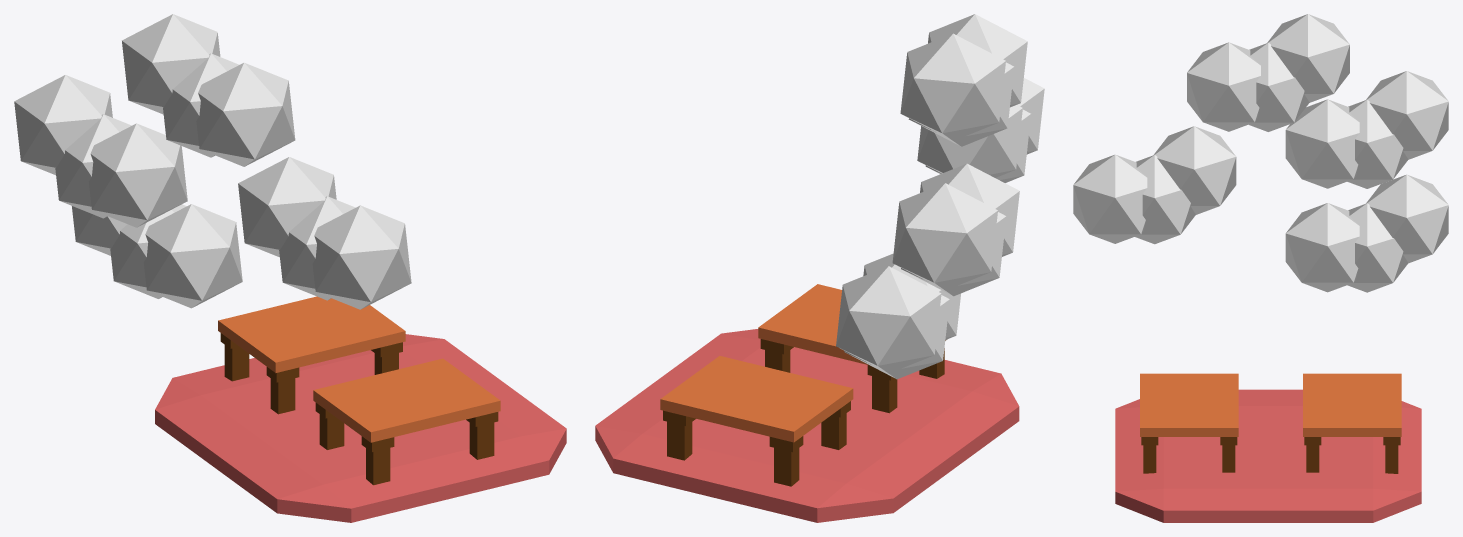
The model's file is stage.glb.
3 renders of one model, left to right at view 1: azimuth 30°, elevation 25°; view 2: azimuth 150°, elevation 25°; view 3: azimuth 270°, elevation 25°, orthographic. The views are drawn at different scales.
Visible parts, largest first — view 1: stage; view 2: stage; view 3: stage.
Boxes of the visible parts, bbox=[...] form: stage: bbox=[14, 14, 566, 522]; stage: bbox=[595, 14, 1044, 522]; stage: bbox=[1073, 14, 1448, 522].
Bounding box in the file's own units: 8.09 × 8.54 × 7.6.
